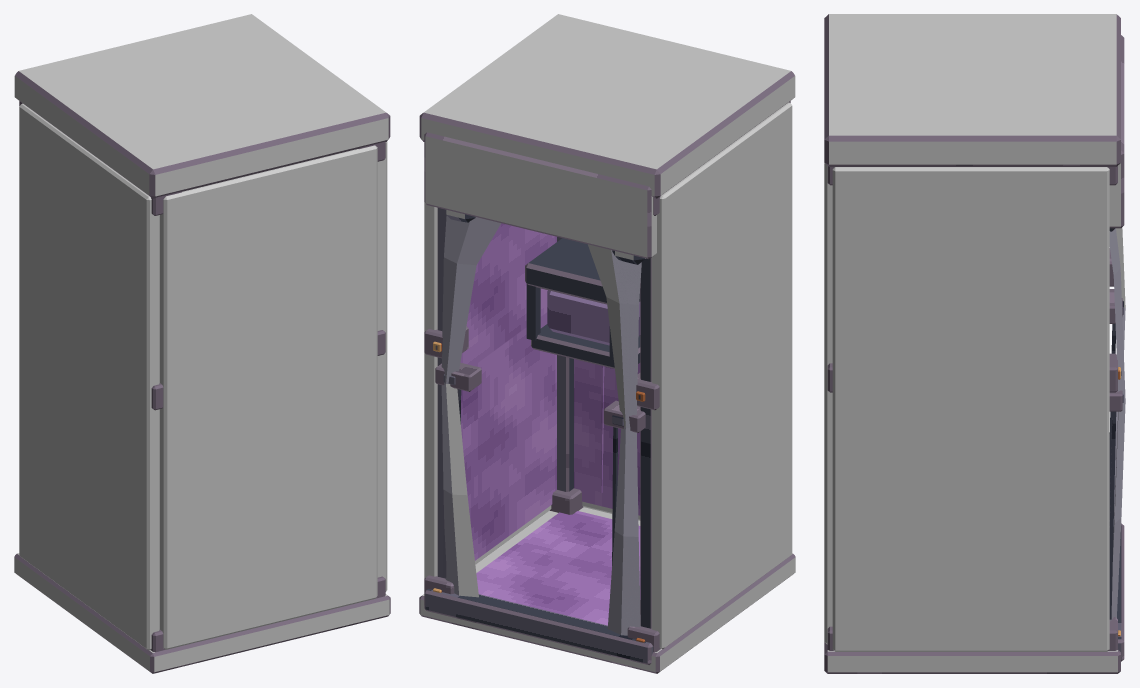
File: tent_1_body.obj
3 renders of one model, left to right at view 1: azimuth 30°, elevation 25°; view 2: azimuth 150°, elevation 25°; view 3: azimuth 270°, elevation 25°, orthographic. The views are drawn at different scales.
Parts seen in each view (by area): view 1: model; view 2: model; view 3: model.
Boxes of the visible parts, box(x1,y1,x2,y2) form: model: box(14, 14, 390, 673); model: box(419, 14, 795, 673); model: box(824, 14, 1125, 673).
Bounding box in the file's own units: 1.12 × 2.25 × 1.14.
